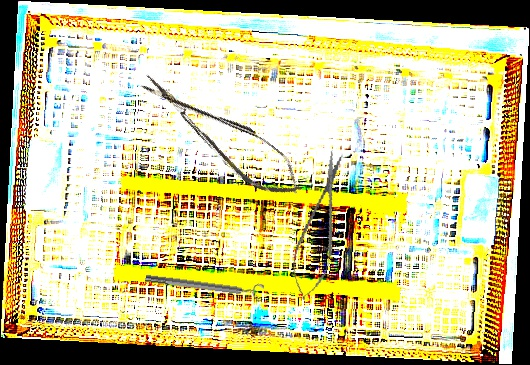Fixation Ring: (144, 267, 265, 304)
Micro Scissor: (132, 57, 312, 212), (284, 147, 356, 304)
